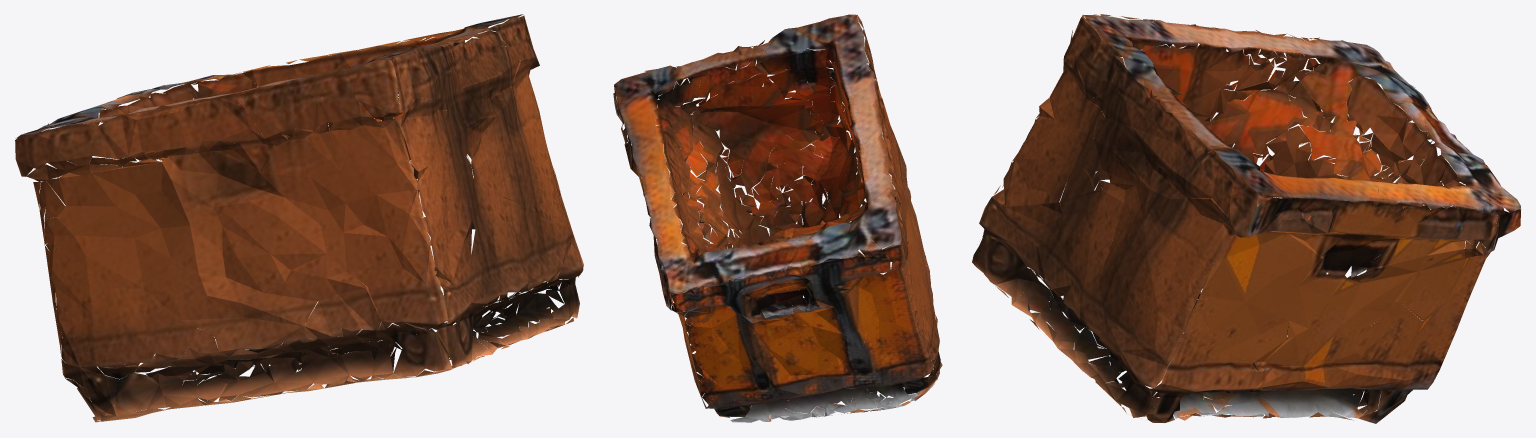
File: crate.glb
3 renders of one model, left to right at view 1: azimuth 30°, elevation 25°; view 2: azimuth 150°, elevation 25°; view 3: azimuth 270°, elevation 25°, orthographic. The views are drawn at different scales.
Parts seen in each view (by area): view 1: world; view 2: world; view 3: world.
Boxes of the visible parts, box(x1,y1,x2,y2) form: world: box(15, 14, 583, 422); world: box(613, 14, 942, 422); world: box(972, 14, 1521, 423).
Size of the model in its own units: 0.902 by 0.8107 by 1.01.
Materials: 1 (1 with a texture image).
